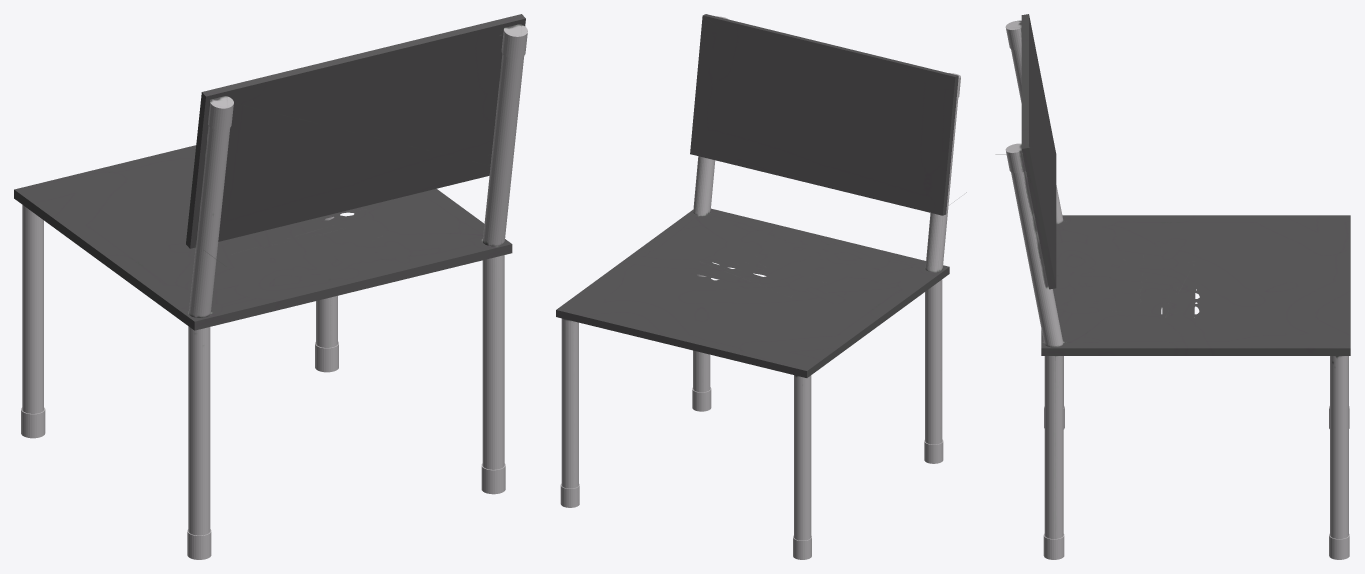
Rendered from Chair1.fbx.
The picture shows the model from 3 angles, left to right: view 1: azimuth 30°, elevation 25°; view 2: azimuth 150°, elevation 25°; view 3: azimuth 270°, elevation 25°; orthographic projection. The views are drawn at different scales.
Visible parts, largest first — view 1: node_id6; view 2: node_id6; view 3: node_id6.
Boxes of the visible parts, left/top/right/bottom form: node_id6: left=14, top=14, right=527, bottom=559; node_id6: left=556, top=14, right=960, bottom=559; node_id6: left=1005, top=14, right=1350, bottom=559.
Size of the model in its own units: 0.3553 by 0.512 by 0.399.
2 materials, 2 textured.
